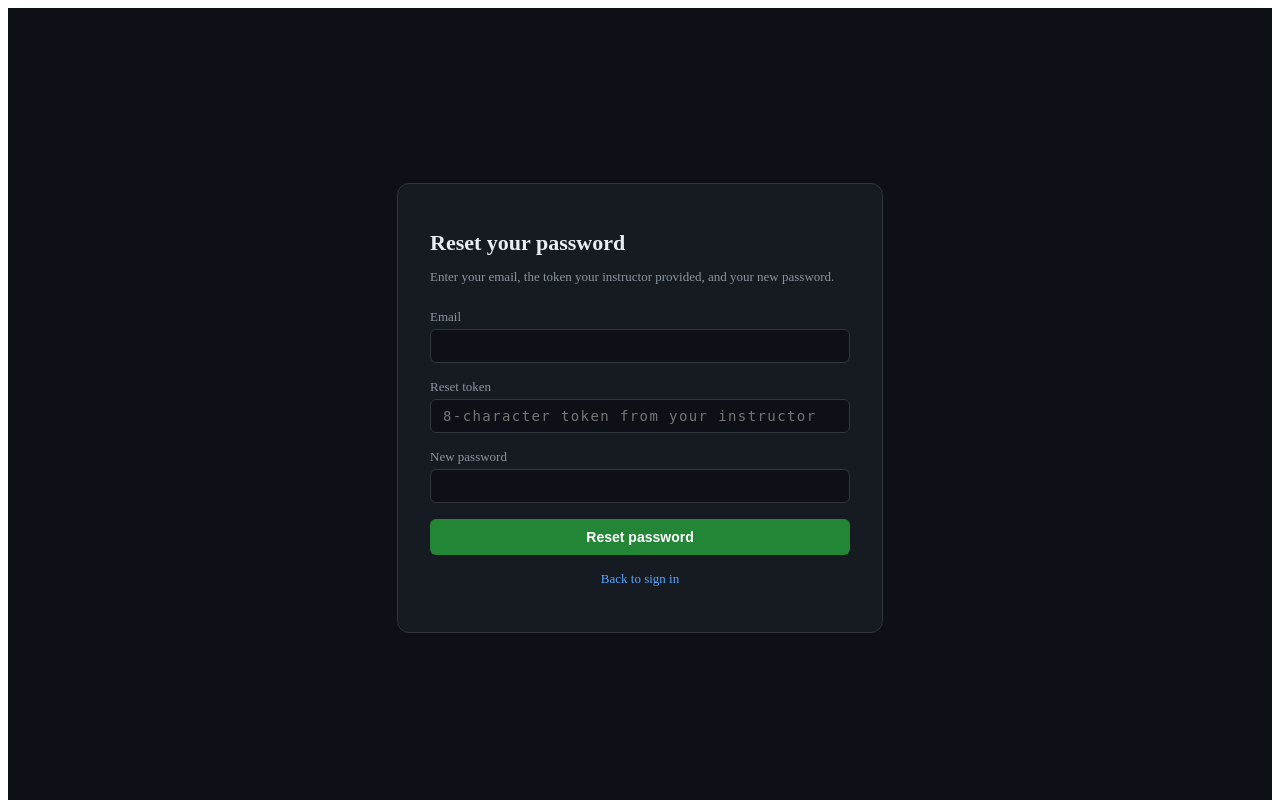
Scenario: ResetPasswordPage › shows error on API failure
The image size is (1280, 800).
Type "u@example.com" into the field labelled "Email". click: (640, 346)
box: [430,329,850,363]
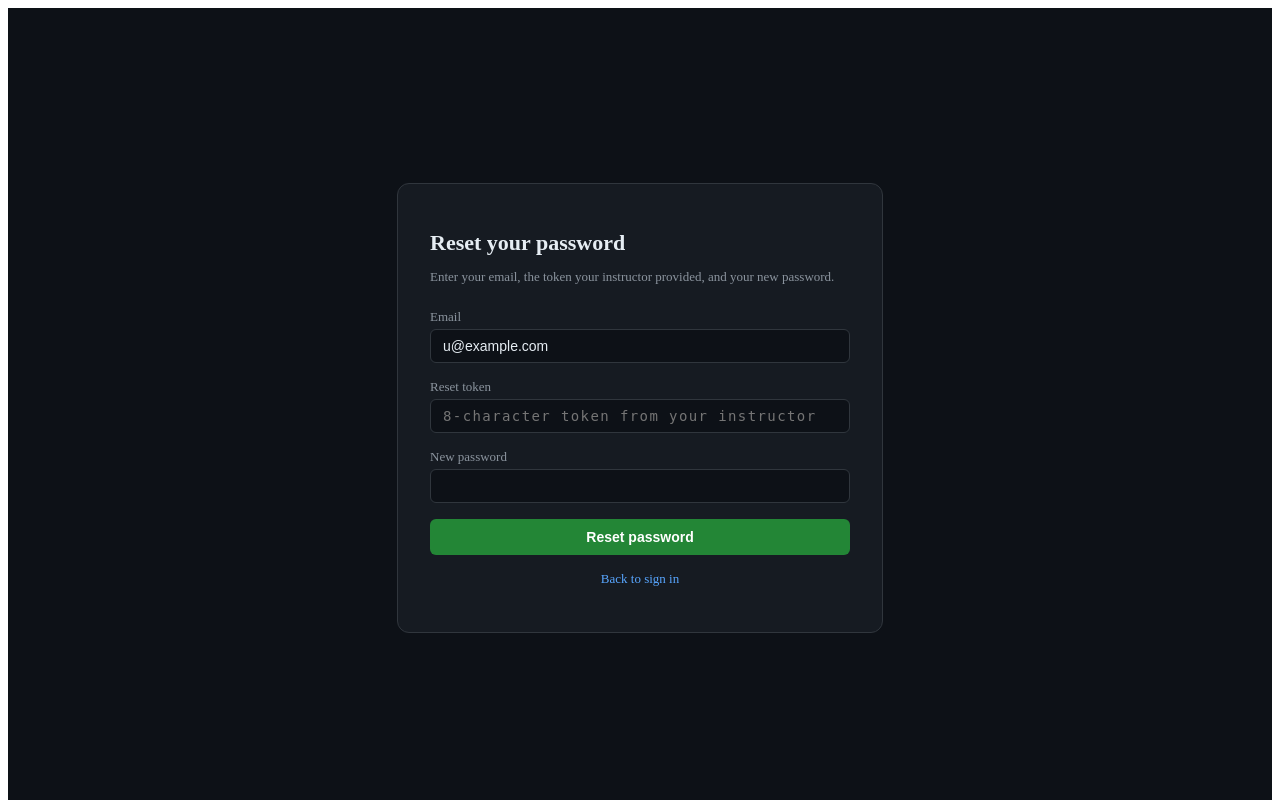
Type "ABCD1234" into the field labelled "Reset token". click: (640, 416)
box: [430,399,850,433]
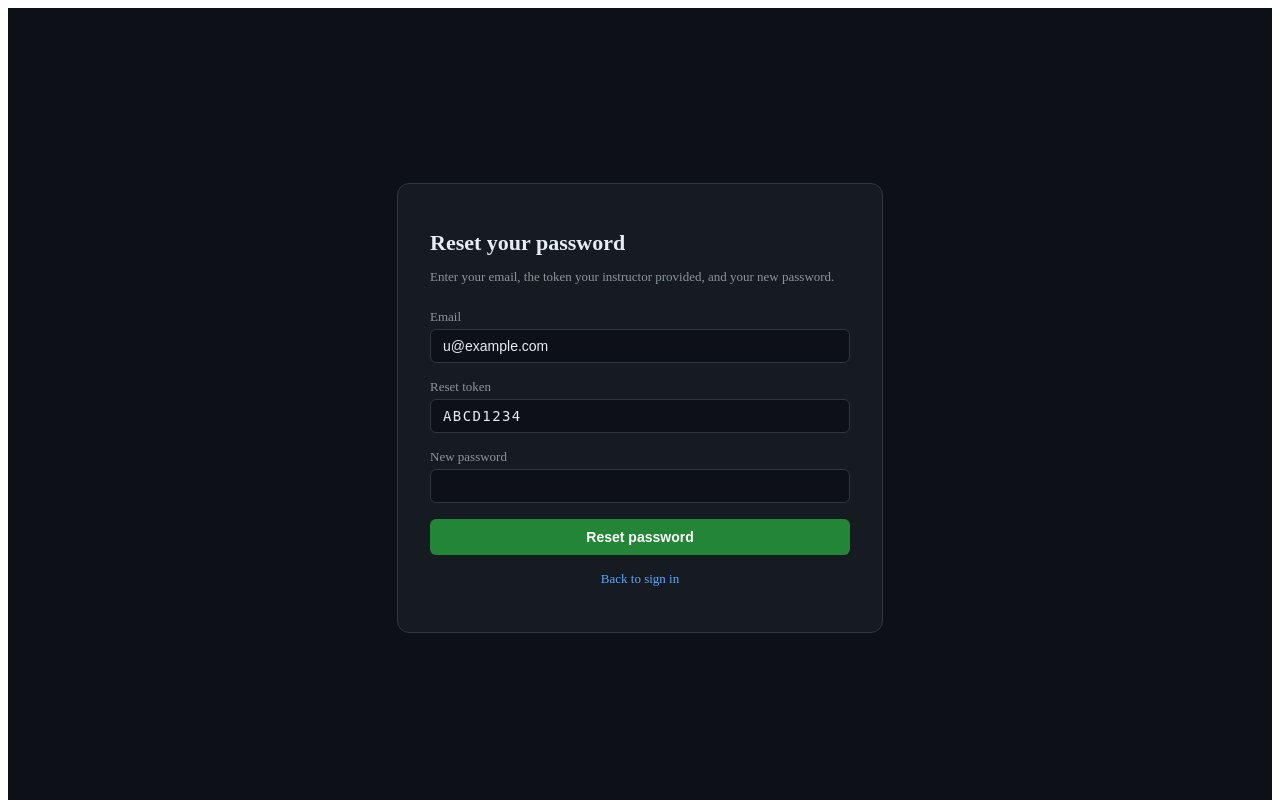
Type "newpassword1" into the password field labelled "New password". click: (640, 486)
box: [430,469,850,503]
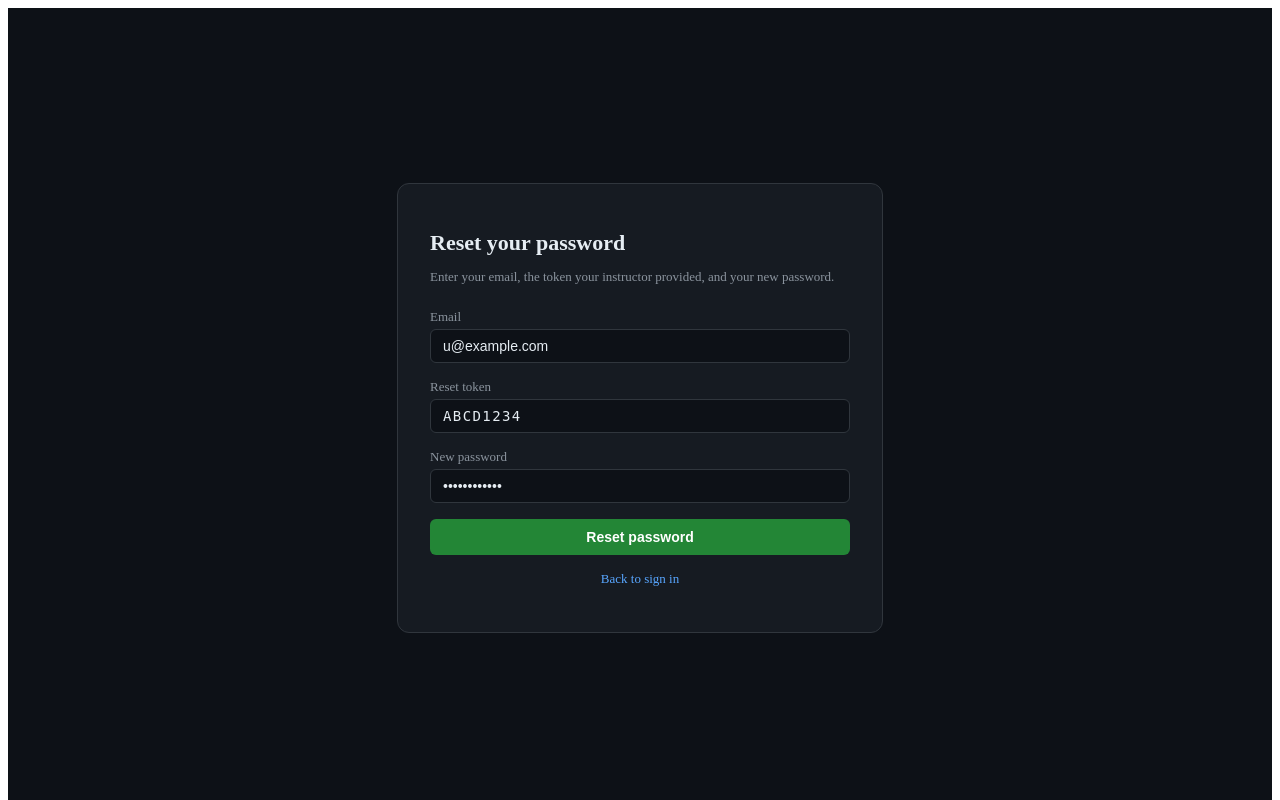
Click the button "Reset password". click: (640, 537)
box: [430,519,850,555]
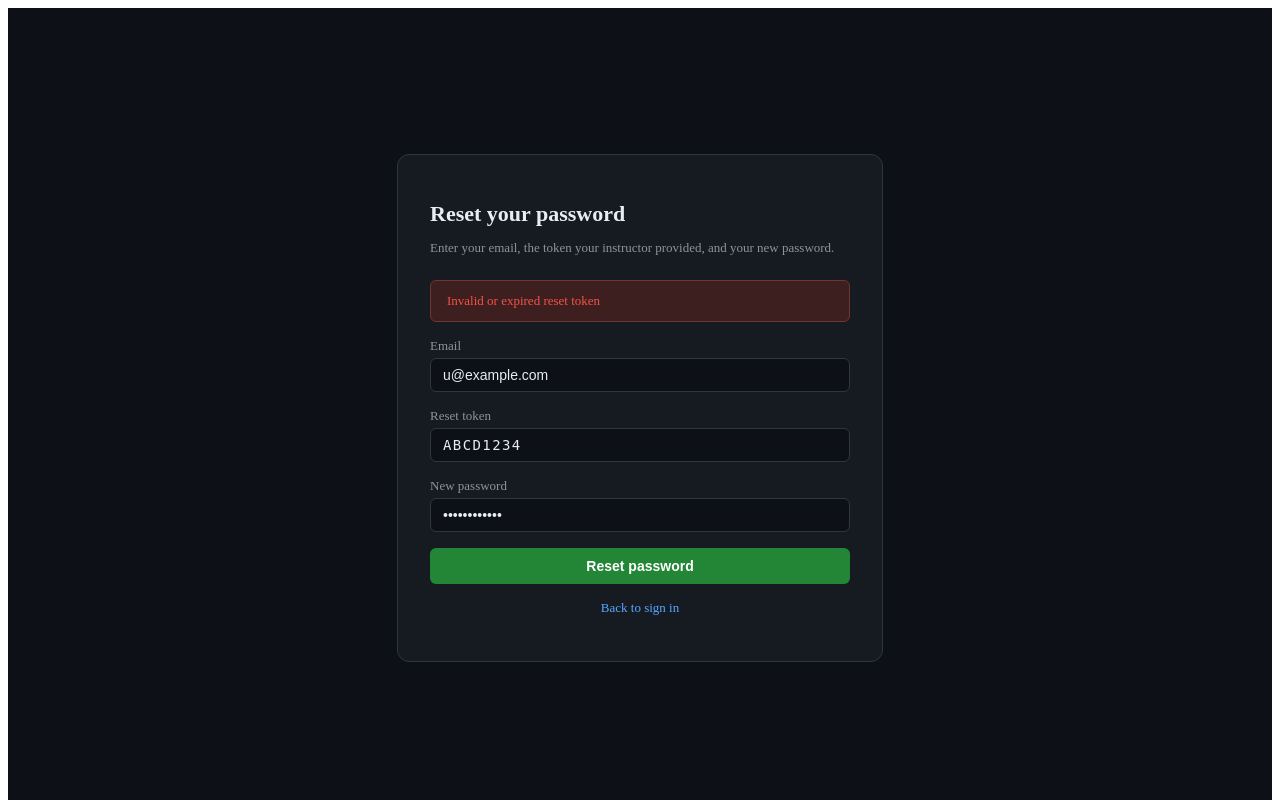
Result: the text "Invalid or expired reset token" is shown at [430,280,850,322]
